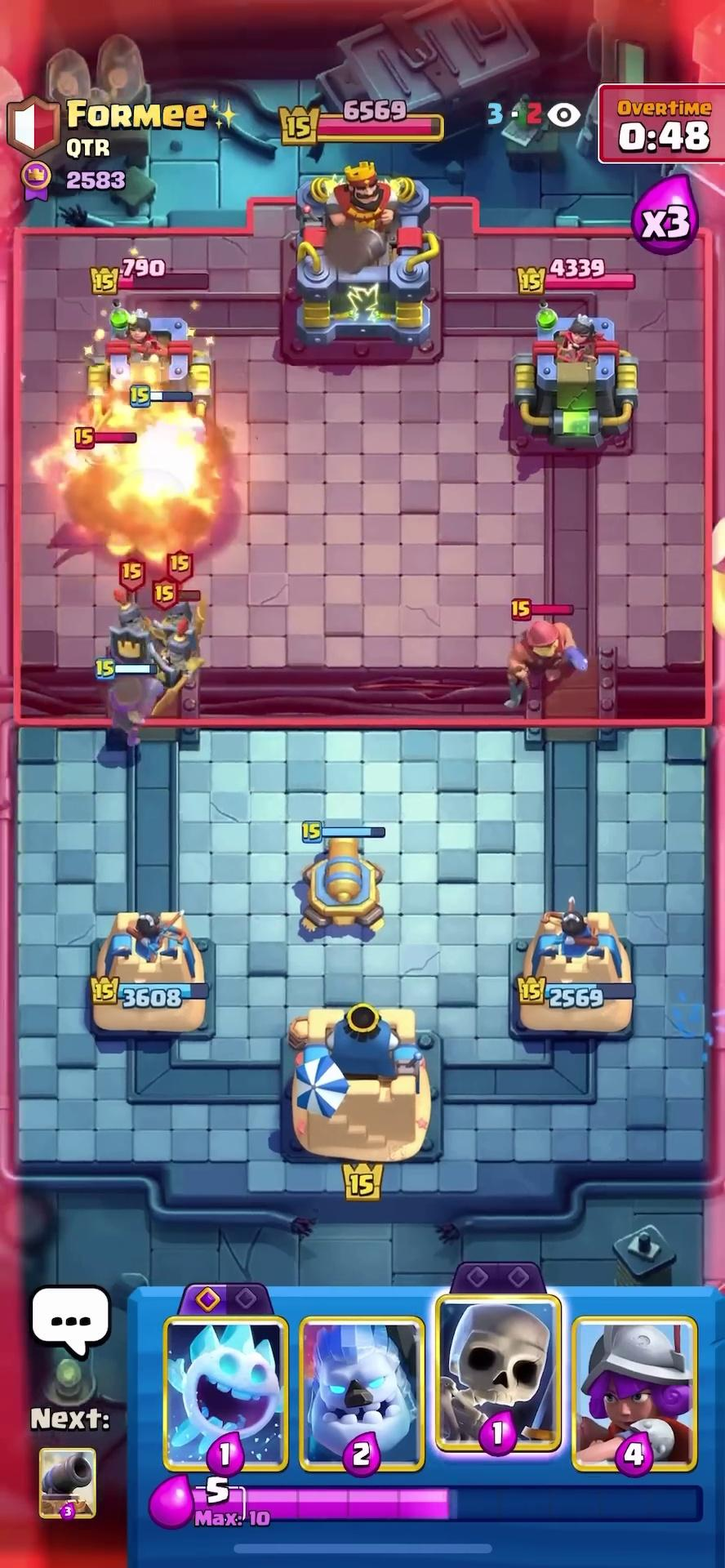cannon: (284, 817, 402, 945)
musketeer: (92, 657, 155, 760)
